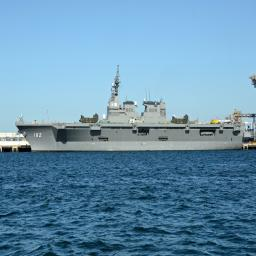Portanaves: (15, 63, 249, 156)
